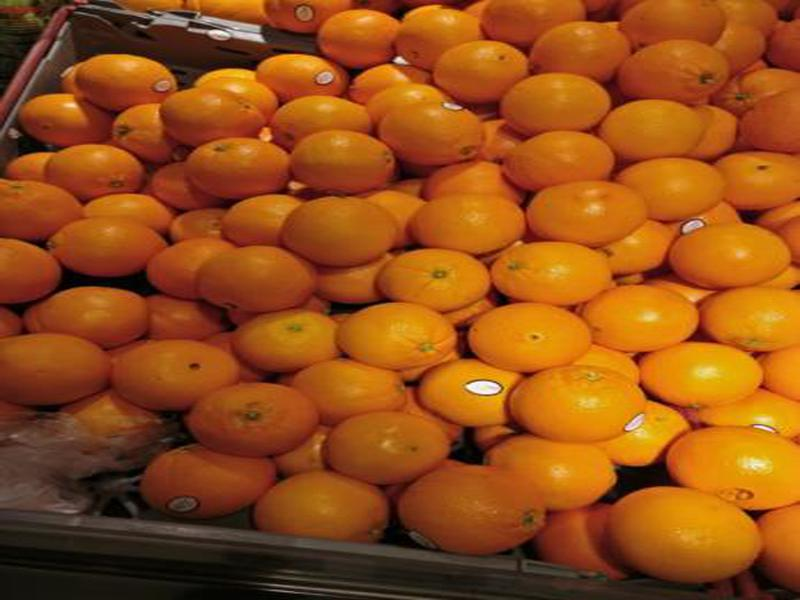orange: (600, 474, 768, 585), (394, 460, 553, 558), (129, 438, 292, 527), (474, 427, 622, 524), (658, 417, 800, 518), (245, 470, 411, 550), (510, 360, 651, 449), (314, 409, 472, 486), (325, 295, 463, 378), (630, 331, 768, 413), (564, 281, 713, 356), (182, 375, 312, 460), (662, 208, 800, 284), (479, 233, 622, 303), (114, 336, 247, 410), (278, 188, 398, 268), (467, 306, 595, 380), (193, 245, 333, 311), (398, 188, 526, 260), (370, 241, 501, 311), (369, 98, 486, 173), (497, 70, 617, 141), (421, 357, 534, 432), (34, 286, 166, 350), (229, 299, 347, 369), (46, 215, 175, 278), (612, 154, 733, 221), (179, 131, 296, 198), (68, 47, 194, 108), (289, 121, 400, 190), (423, 32, 526, 106), (217, 186, 323, 257), (604, 95, 713, 163), (521, 182, 639, 244), (698, 277, 800, 348), (500, 140, 632, 194), (1, 335, 112, 398), (520, 20, 631, 83), (710, 136, 800, 210), (1, 179, 95, 249), (248, 45, 349, 105), (23, 88, 123, 148), (623, 48, 734, 102), (305, 8, 401, 66), (106, 94, 188, 158), (42, 143, 148, 190), (612, 1, 729, 43), (739, 69, 800, 139), (1, 239, 59, 306), (258, 3, 358, 37)
